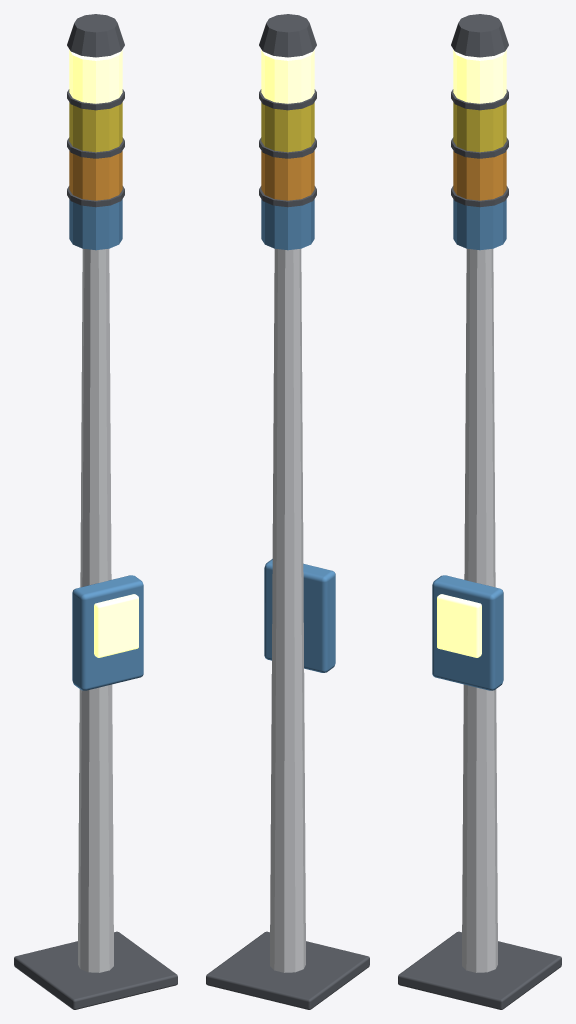
File: andon-light-tower.glb
The picture shows the model from 3 angles, left to right: view 1: azimuth 30°, elevation 25°; view 2: azimuth 150°, elevation 25°; view 3: azimuth 330°, elevation 25°; orthographic projection.
Parts seen in each view (by area): view 1: andon-light-tower; view 2: andon-light-tower; view 3: andon-light-tower.
Boxes of the visible parts, x1,y1,x2,y2 form: andon-light-tower: [14, 14, 177, 1009]; andon-light-tower: [206, 14, 369, 1009]; andon-light-tower: [398, 14, 561, 1009].
Size of the model in its own units: 0.5 by 4.33 by 0.5.
